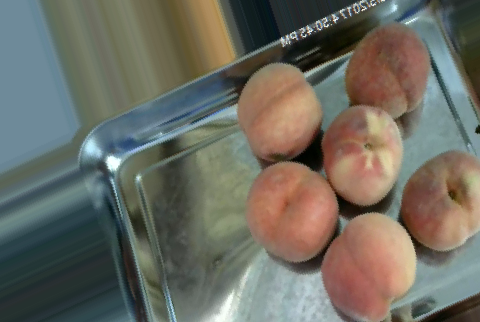Peach: (321, 211, 416, 320), (244, 160, 337, 263), (321, 102, 402, 206), (399, 148, 478, 253), (342, 22, 430, 116), (237, 62, 320, 159)
